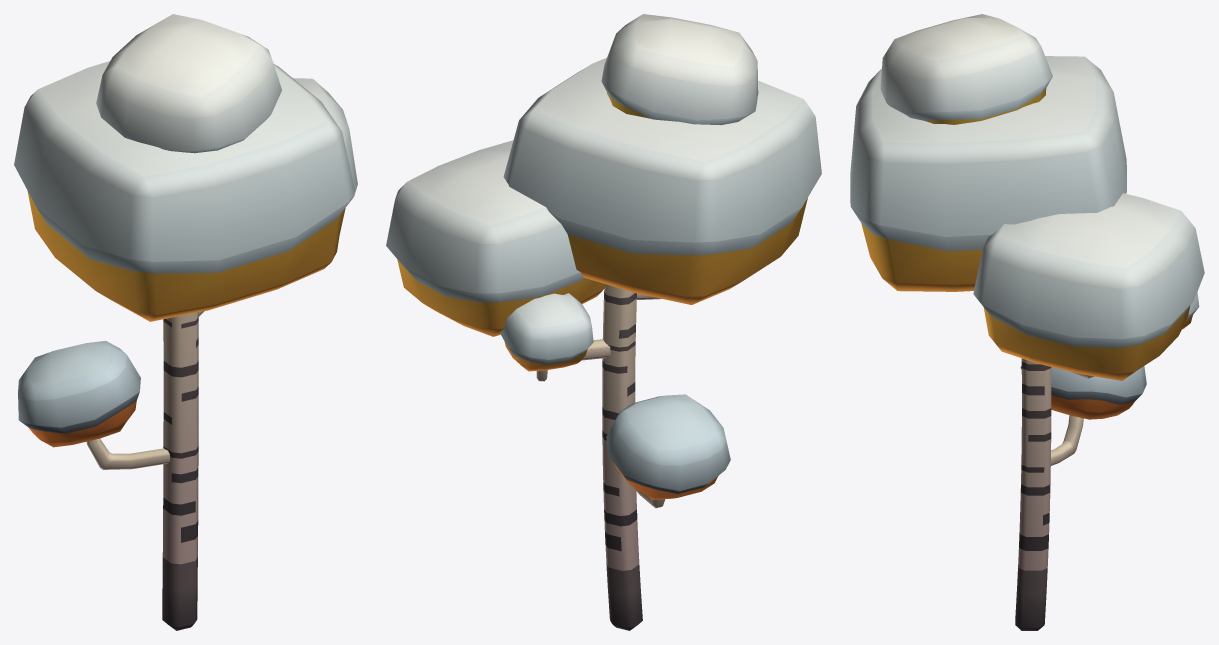
Rendered from birch_tree_col2_03_snow.fbx.
3 views of the same model, side by side, from view 1: azimuth 30°, elevation 25°; view 2: azimuth 150°, elevation 25°; view 3: azimuth 270°, elevation 25° (orthographic). The views are drawn at different scales.
Visible parts, largest first — view 1: birch_tree_col2_03_snow; view 2: birch_tree_col2_03_snow; view 3: birch_tree_col2_03_snow.
Part boxes in pixels (bbox=[...]): birch_tree_col2_03_snow: bbox=[14, 14, 357, 630]; birch_tree_col2_03_snow: bbox=[386, 14, 821, 630]; birch_tree_col2_03_snow: bbox=[850, 14, 1204, 630].
Bounding box in the file's own units: 561 × 957 × 520.
Materials: 1 (1 with a texture image).
